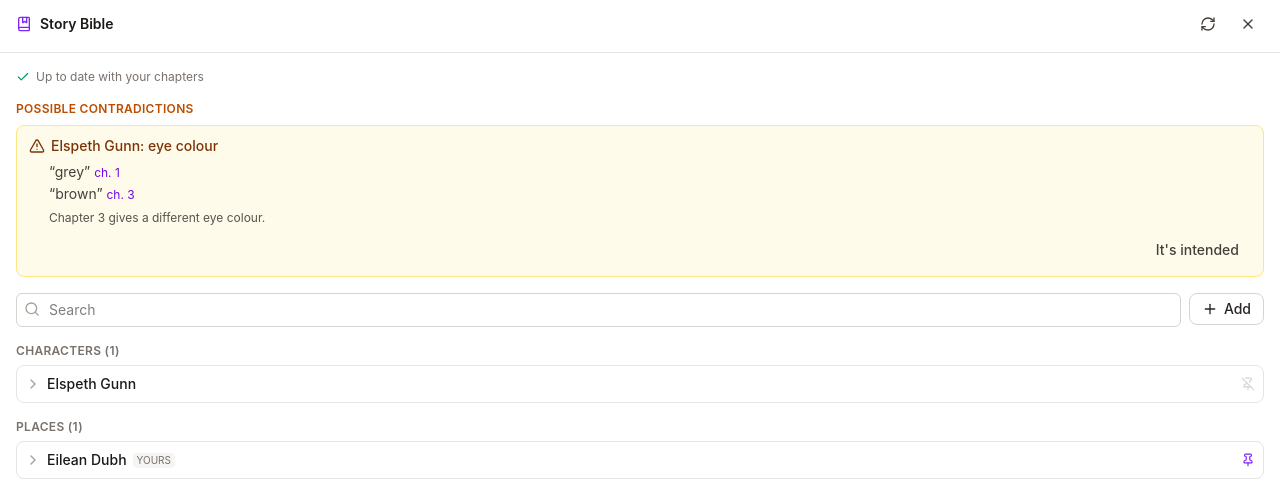
StoryBiblePanel › dismisses a contradiction the author intended
This screenshot has width=1280, height=496.
Click the button "It's intended".
click(1197, 250)  # box left=1144, top=234, right=1251, bottom=266
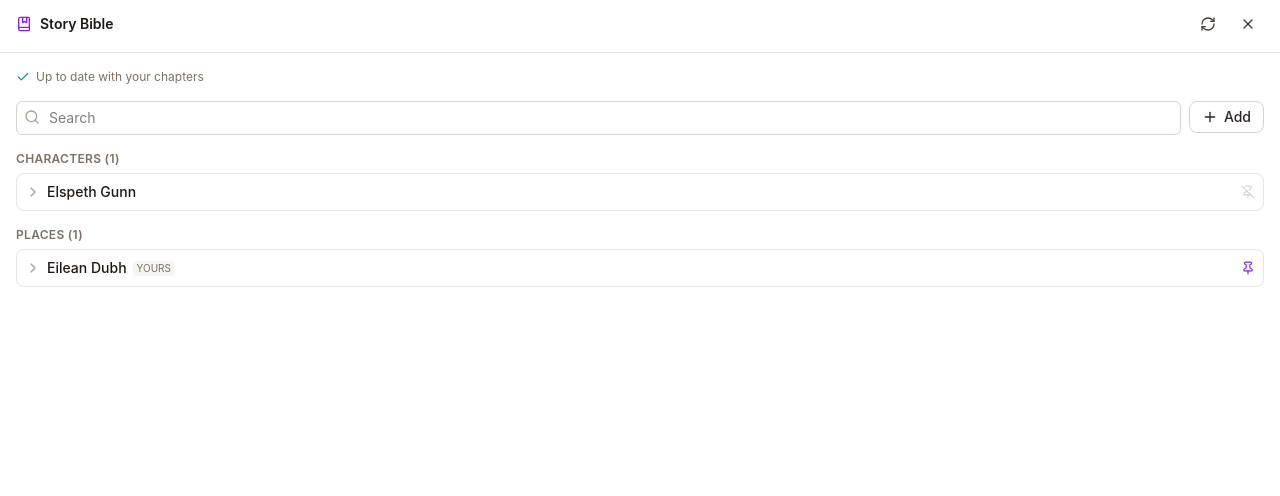
expect the text "Elspeth Gunn: eye colour" is gone: met
